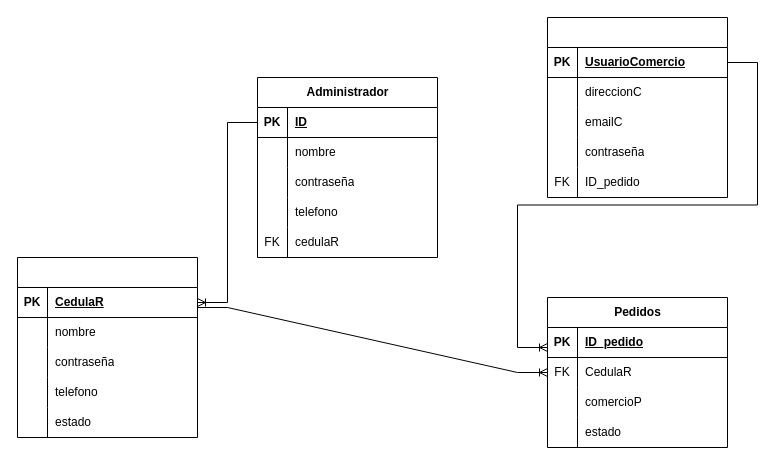
Image size: 783x465. Some labels were removed from this diagram. The box of each missing label's shape, as (x1, y1, x2, y2) in pixels:
Comericio: (546, 16, 728, 198)
Repartidor: (16, 256, 198, 438)
